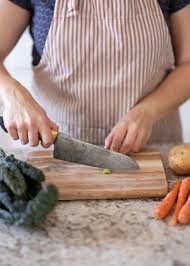knife: (1, 112, 144, 174)
